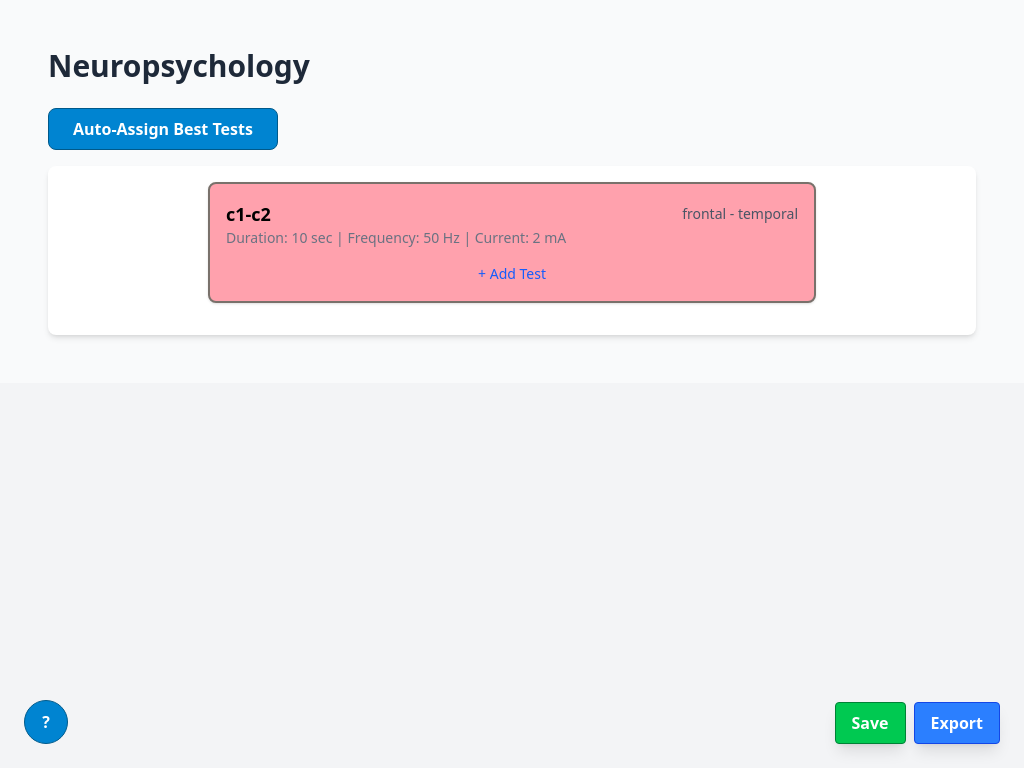
Test: FunctionalTestSelection › auto-assigns best tests
Click the button "Auto-Assign Best Tests" at (163, 129), box [48, 108, 278, 150]
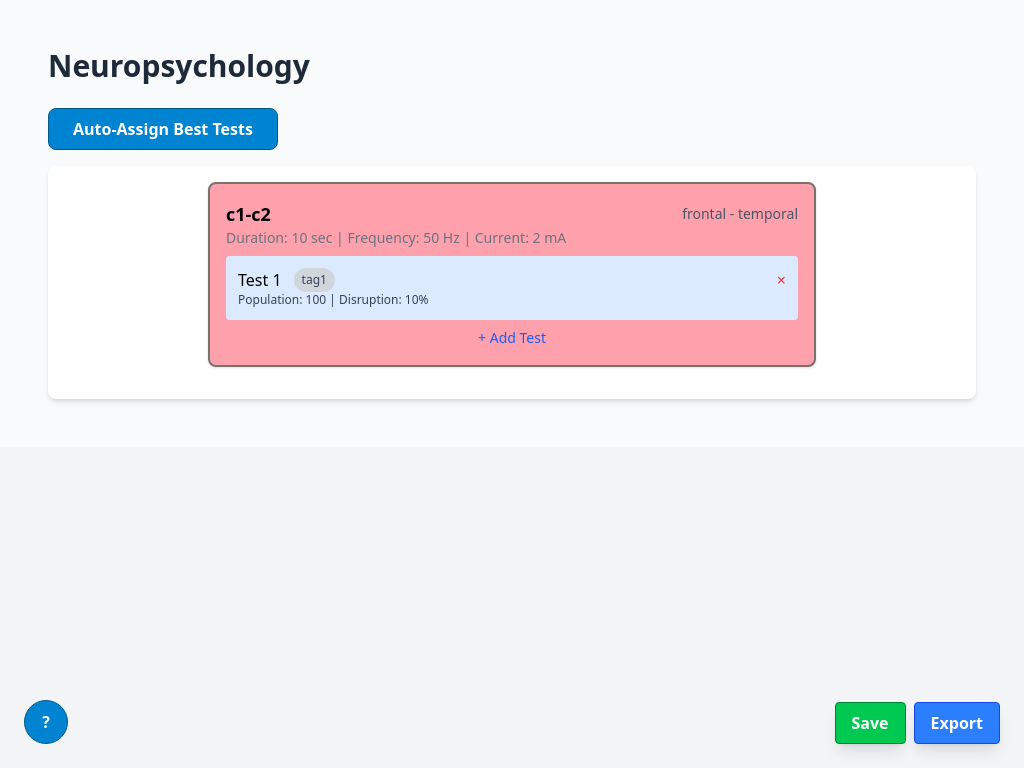
Check: the text "Test 1" is shown, box [238, 268, 282, 292]
